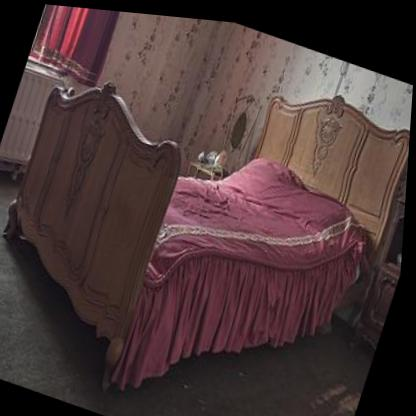Bed: (0, 0, 416, 416)
Chair: (185, 73, 268, 196)
